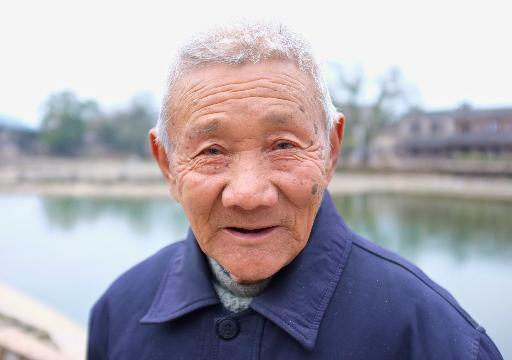left_eye: (269, 141, 308, 155)
left_lip_corner: (270, 222, 283, 234)
right_eye: (192, 142, 229, 160)
right_lip_corner: (215, 225, 237, 236)
